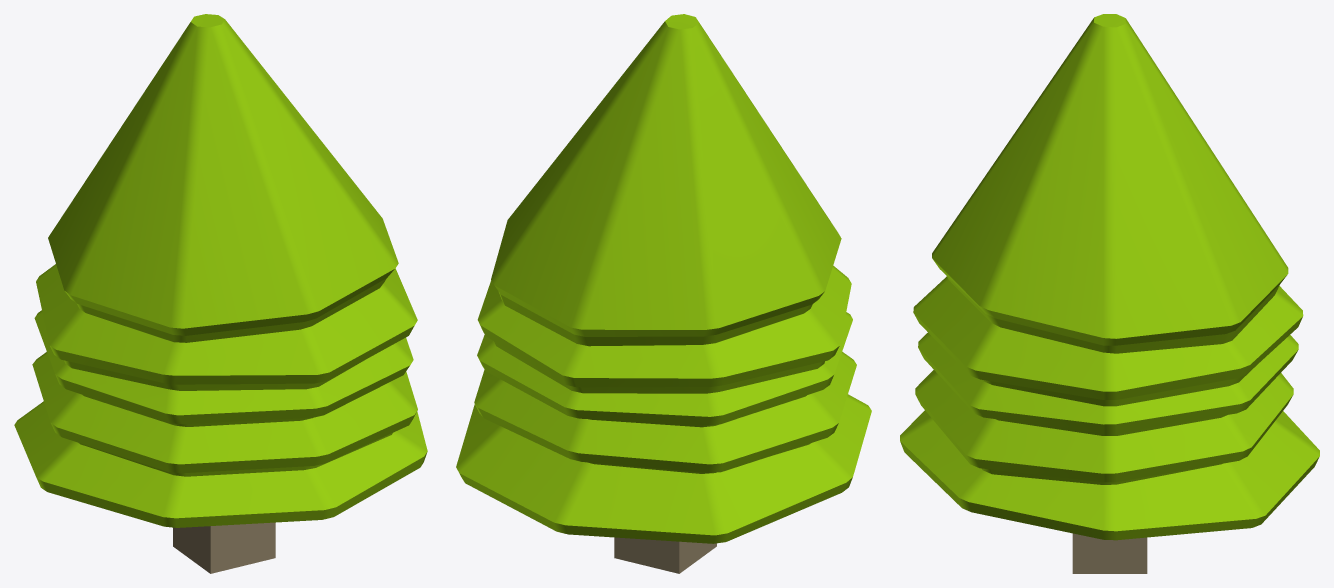
File: pine_skewed_4_bevel.fbx
3 views of the same model, side by side, from view 1: azimuth 30°, elevation 25°; view 2: azimuth 150°, elevation 25°; view 3: azimuth 270°, elevation 25° (orthographic).
Parts seen in each view (by area): view 1: pine_skewed_4_bevel; view 2: pine_skewed_4_bevel; view 3: pine_skewed_4_bevel.
Part boxes in pixels (<box>): pine_skewed_4_bevel: <box>14,14,427,573</box>; pine_skewed_4_bevel: <box>456,14,871,573</box>; pine_skewed_4_bevel: <box>900,14,1319,573</box>.
Bounding box in the file's own units: 126 × 175 × 125.
